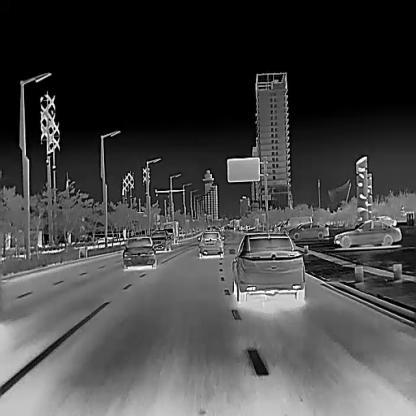car: (232, 232, 305, 300), (333, 219, 400, 247), (122, 236, 157, 270), (197, 229, 225, 257), (288, 222, 329, 239), (280, 216, 312, 233), (149, 229, 172, 251), (163, 220, 179, 244), (376, 215, 397, 225)
